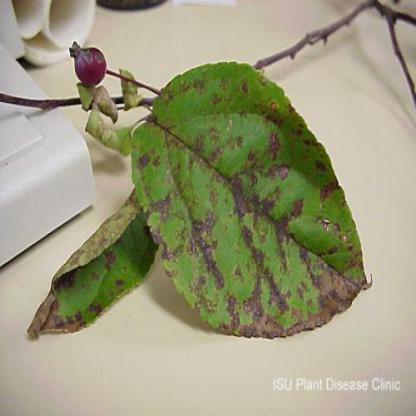apple scab leaf: (124, 41, 383, 358), (42, 185, 159, 351)
